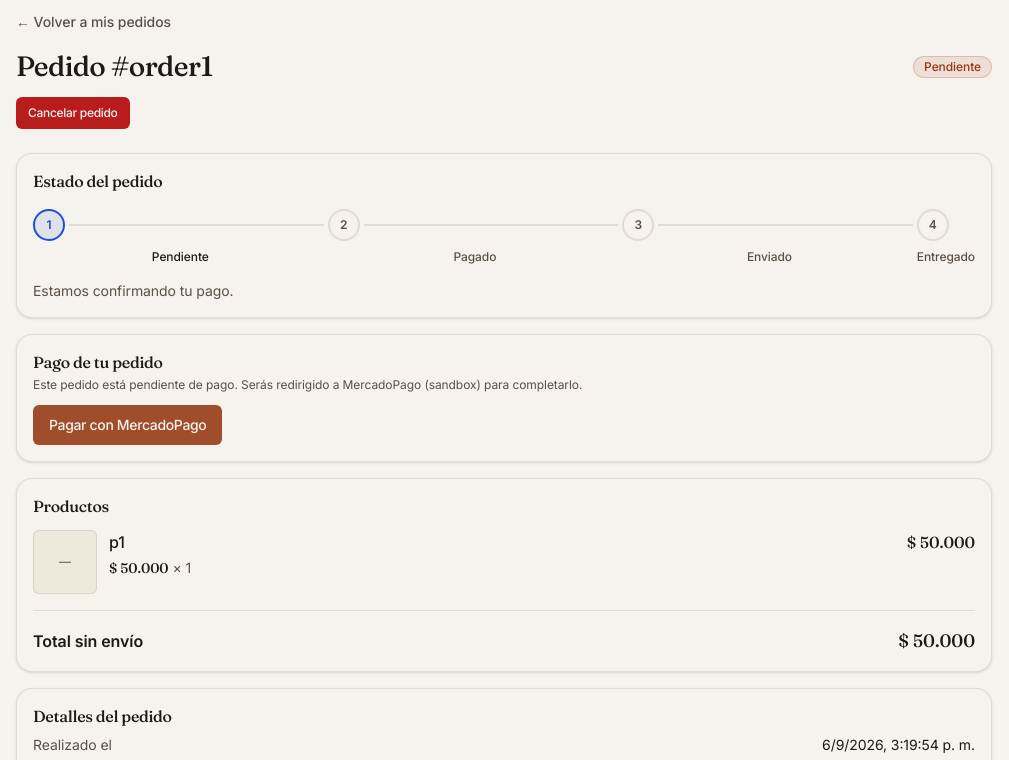
it: OrderDetailPage › muestra un error si la cancelación falla en el servidor
Click the button "Cancelar pedido" at (73, 113), box left=16, top=97, right=130, bottom=129
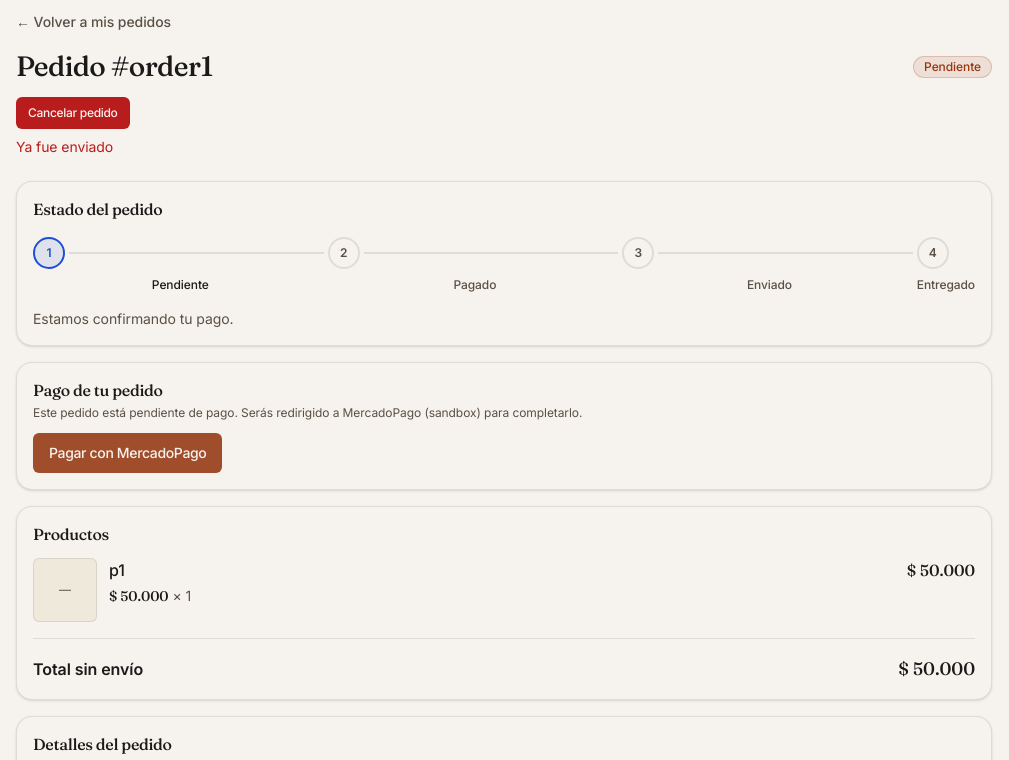
expect the text "Ya fue enviado" is shown: met, box left=16, top=137, right=113, bottom=157
